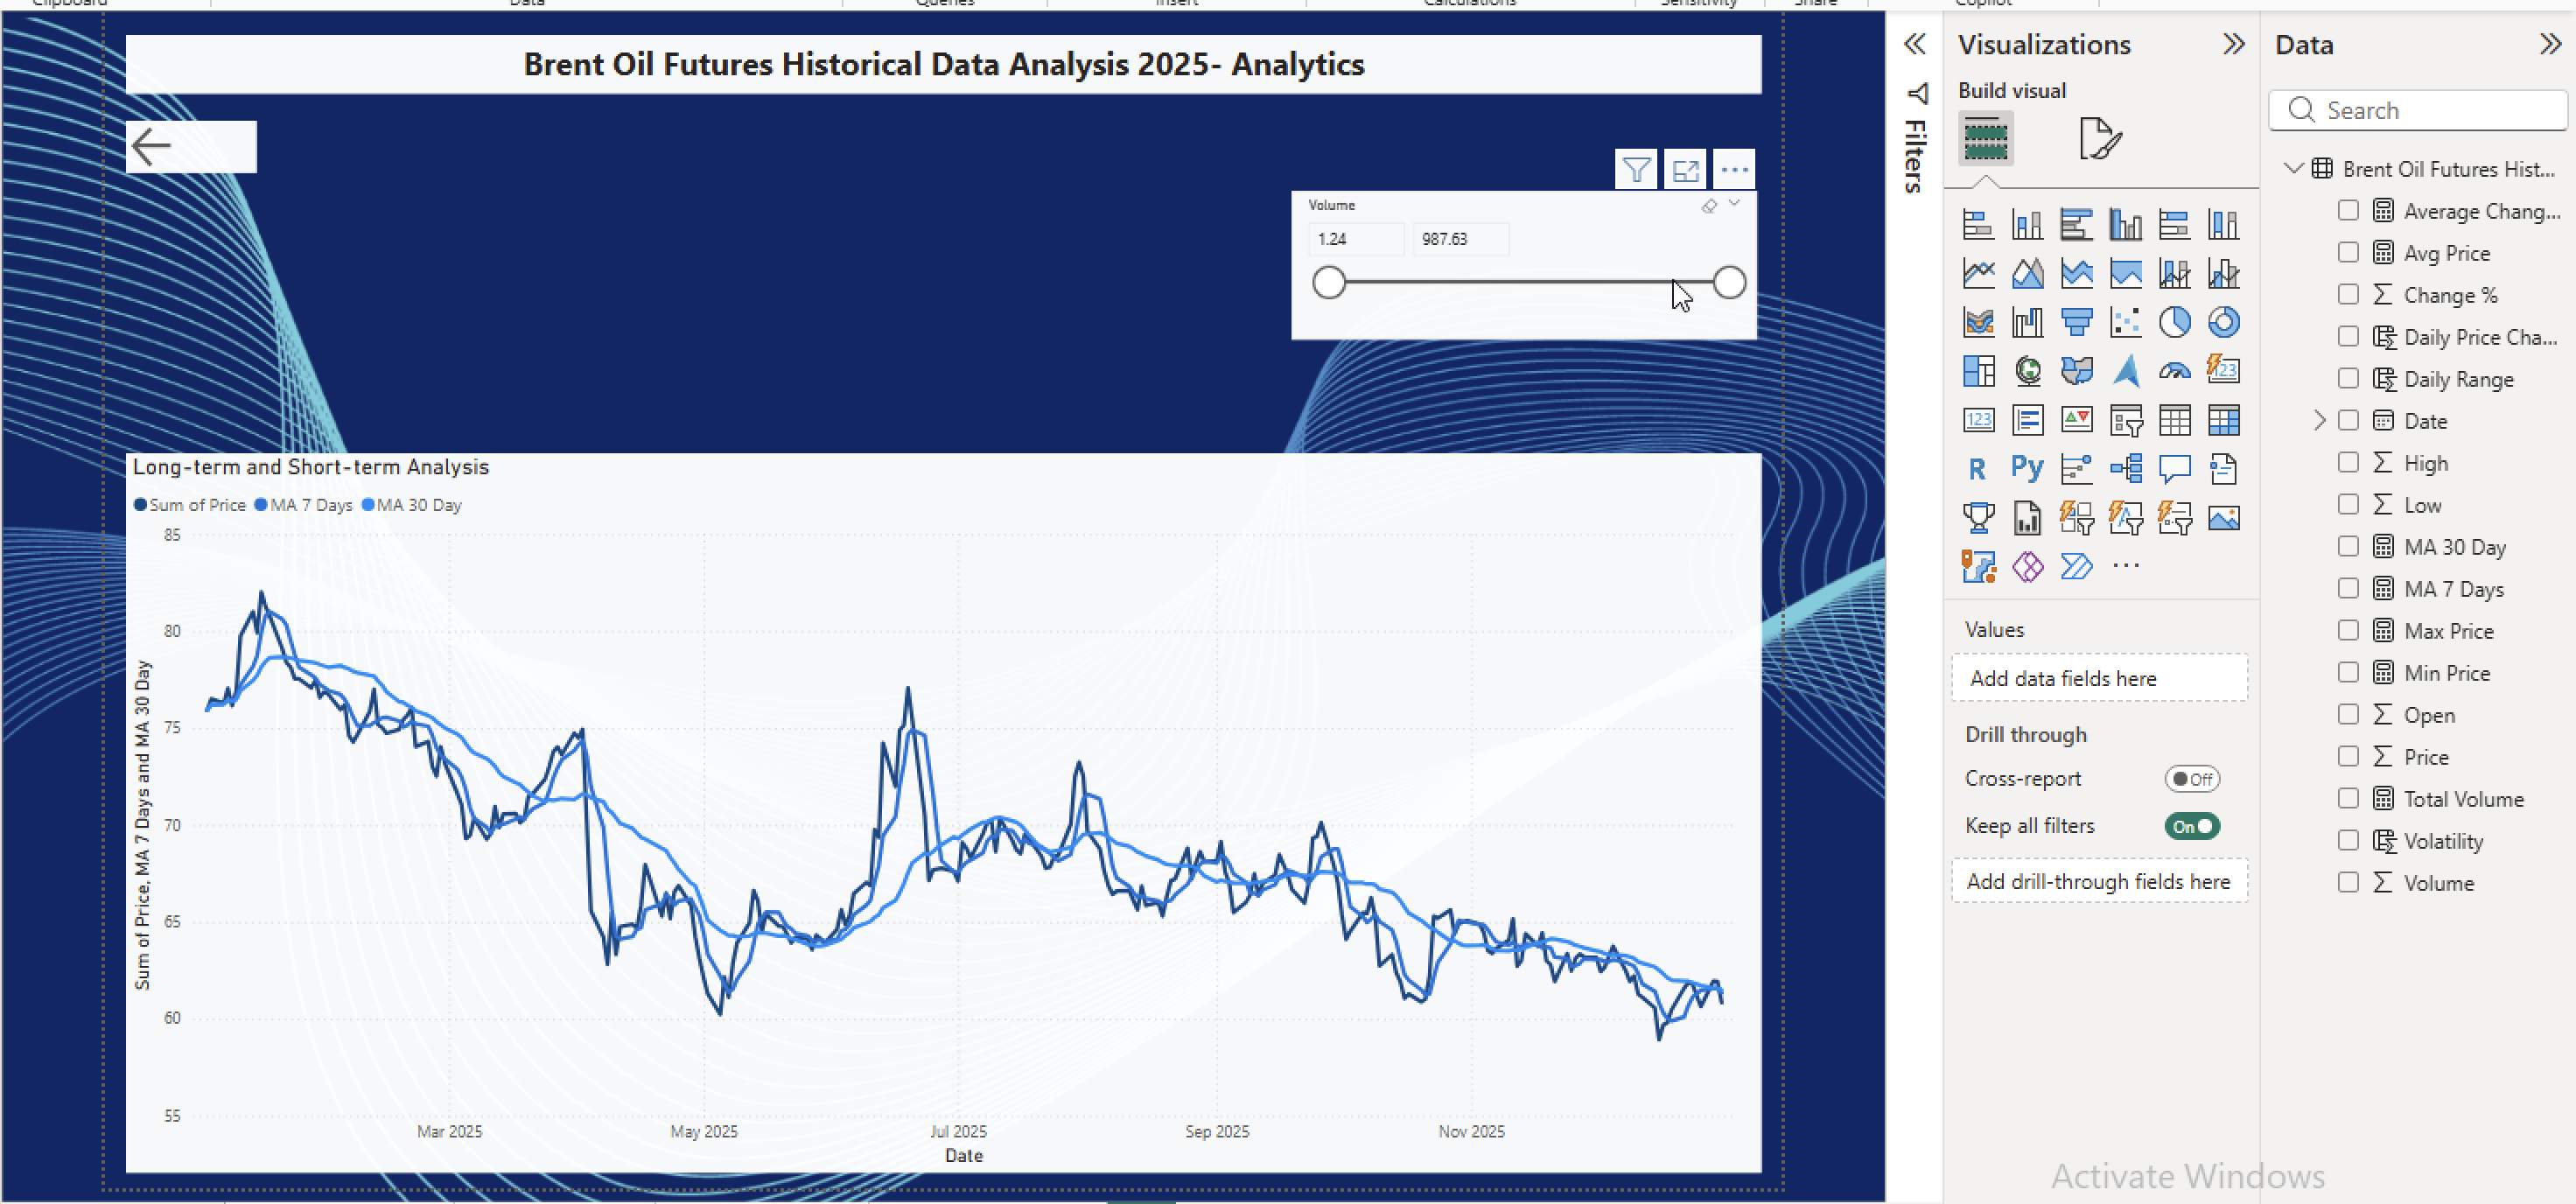

This screenshot's page, from the dashboard's own definition file:
{"tool":"powerbi","page":{"name":"Moving Averages","canvas":[1280,900],"ordinal":3},"visuals":[{"type":"lineChart","title":"Long-term and Short-term Analysis","fields":{"Y":["Sum(Brent Oil Futures Historical Data Daily 2025.Price)","Brent Oil Futures Historical Data Daily 2025.MA 7 Days","Brent Oil Futures Historical Data Daily 2025.MA 30 Day"],"Category":["Brent Oil Futures Historical Data Daily 2025.Date"]},"box":[16,338.3,1250.4,549.6],"z":0},{"type":"slicer","fields":{"Values":["Brent Oil Futures Historical Data Daily 2025.Volume"]},"box":[906.7,137.7,355.7,113.7],"z":1},{"type":"textbox","box":[16,18.7,1250.4,45.5],"z":2},{"type":"actionButton","box":[16,84.2,100.3,40.1],"z":3}]}

Visuals, with their boxes in screenshot pixels (x1, y1, x2, y2):
"Long-term and Short-term Analysis" lineChart: 115:445:1760:1168
slicer - Brent Oil Futures Historical Data Daily 2025.Volume: 1287:181:1755:331
textbox: 115:24:1760:85
actionButton: 115:111:247:164
